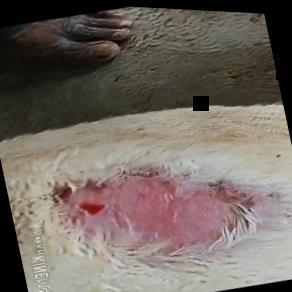skin_lesions: (45, 136, 258, 286)
